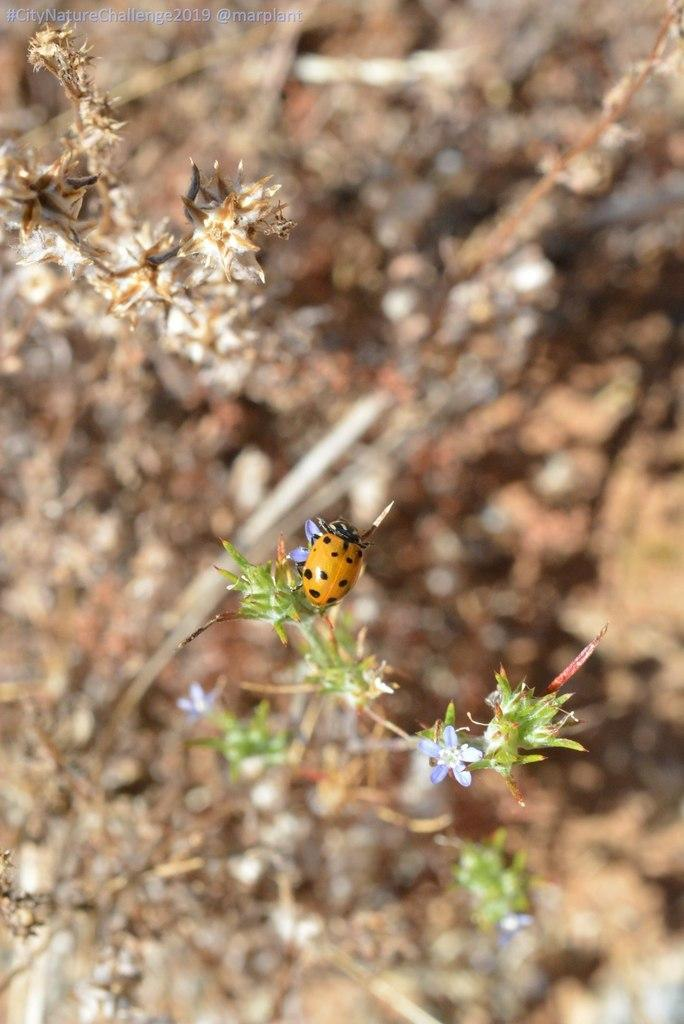ladybug: (291, 516, 373, 616)
